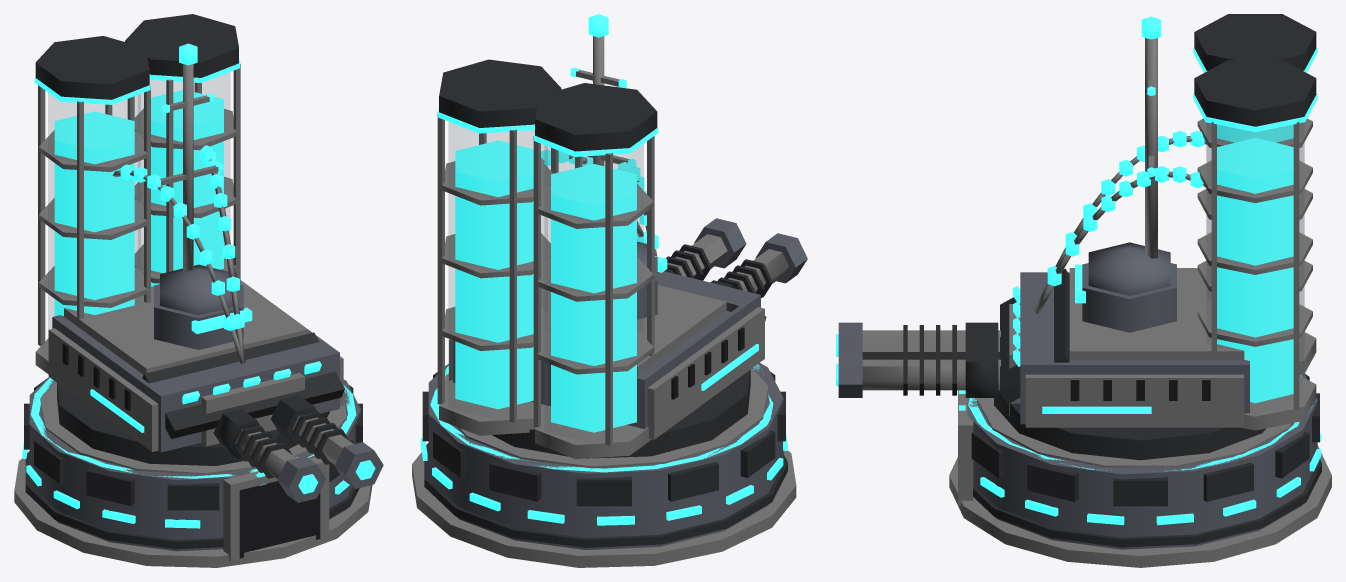
Rendered from Machinegoon_T2.glb.
3 renders of one model, left to right at view 1: azimuth 30°, elevation 25°; view 2: azimuth 150°, elevation 25°; view 3: azimuth 270°, elevation 25°, orthographic. The views are drawn at different scales.
Visible parts, largest first — view 1: Machinegoon_T2_Turret, Machinegoon_T2_Base; view 2: Machinegoon_T2_Turret, Machinegoon_T2_Base; view 3: Machinegoon_T2_Turret, Machinegoon_T2_Base.
Boxes of the visible parts, left/top/right/bottom form: Machinegoon_T2_Turret: left=34, top=14, right=383, bottom=502; Machinegoon_T2_Base: left=14, top=377, right=372, bottom=567; Machinegoon_T2_Turret: left=437, top=14, right=807, bottom=459; Machinegoon_T2_Base: left=412, top=363, right=796, bottom=567; Machinegoon_T2_Turret: left=836, top=14, right=1317, bottom=460; Machinegoon_T2_Base: left=949, top=374, right=1331, bottom=567.
Size of the model in its own units: 3.5 by 4.75 by 4.54.
